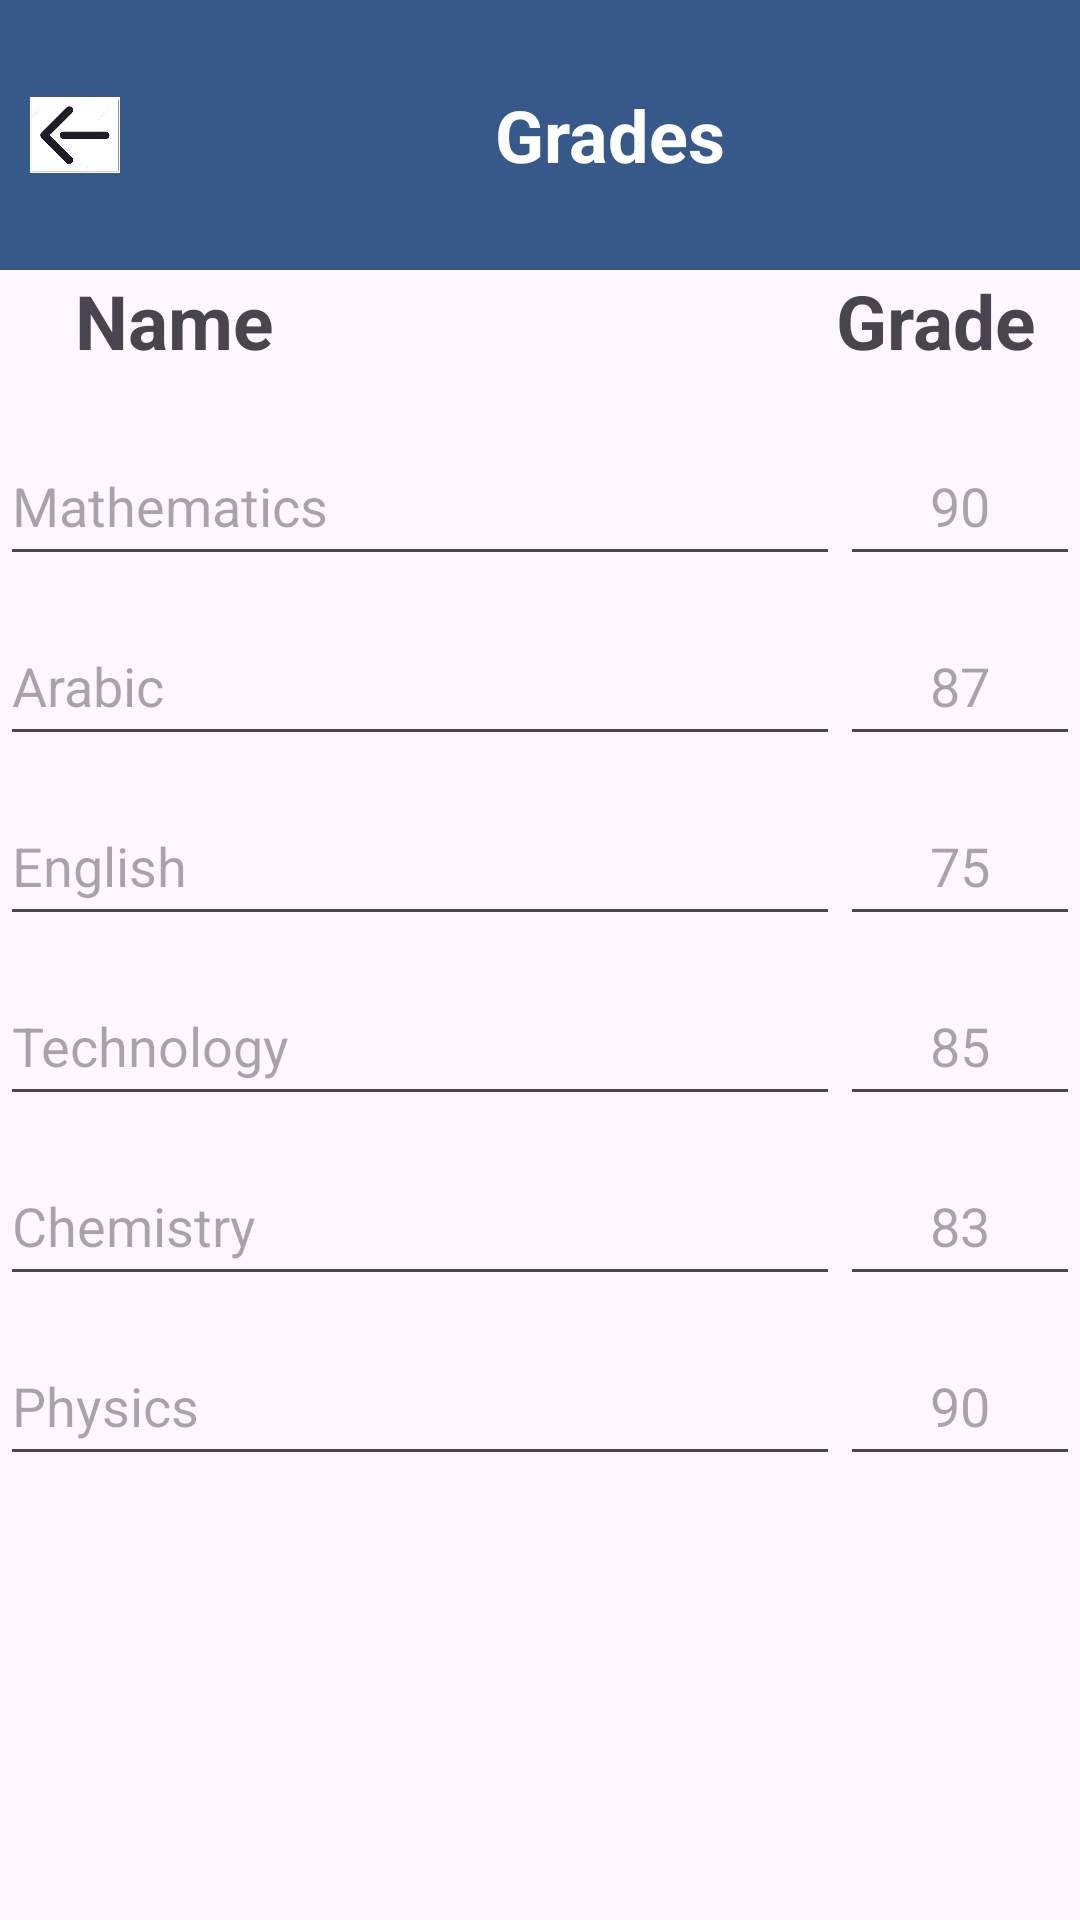

Screen size 1080x1920. Icon name, then its box in pixels as (x1, y1, x2, y2):
back: (30, 97, 120, 173)
